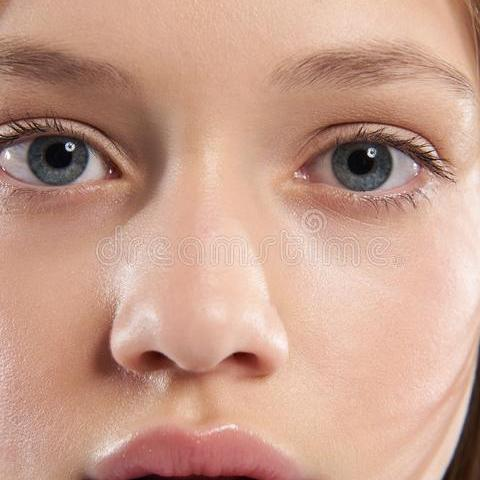opened: (0, 27, 480, 241)
